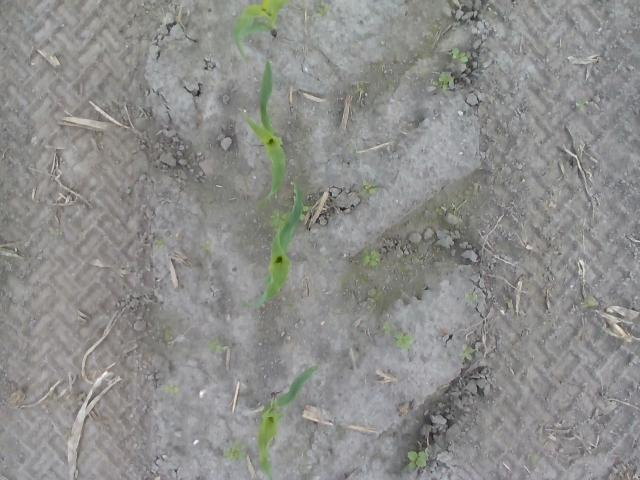Maize: (244, 181, 306, 308), (258, 366, 320, 480), (245, 59, 288, 207), (234, 1, 288, 62)
Weeds: (272, 206, 310, 238), (384, 324, 412, 350), (224, 443, 248, 463), (406, 450, 429, 470), (363, 249, 383, 268), (437, 71, 454, 89), (206, 341, 229, 354), (361, 182, 379, 196), (318, 2, 332, 18), (461, 344, 475, 360), (452, 48, 468, 61), (582, 298, 600, 308), (164, 386, 179, 396), (465, 292, 480, 301), (575, 100, 590, 108), (154, 239, 164, 248), (358, 86, 367, 96), (54, 229, 62, 238)
